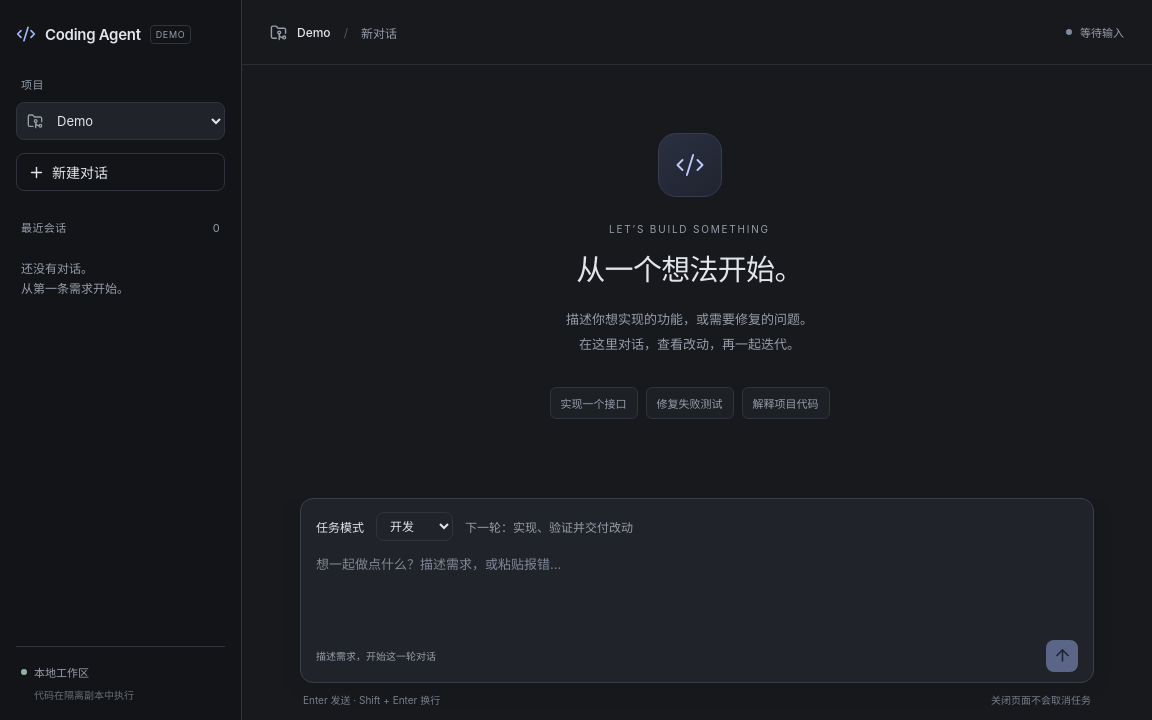
Test: chat MVP › creates a conversation and starts another run for the same text after completion
Type "fix tests" into the text box named "任务需求".
click(697, 590); type("fix tests")  # box [316,552,1078,628]
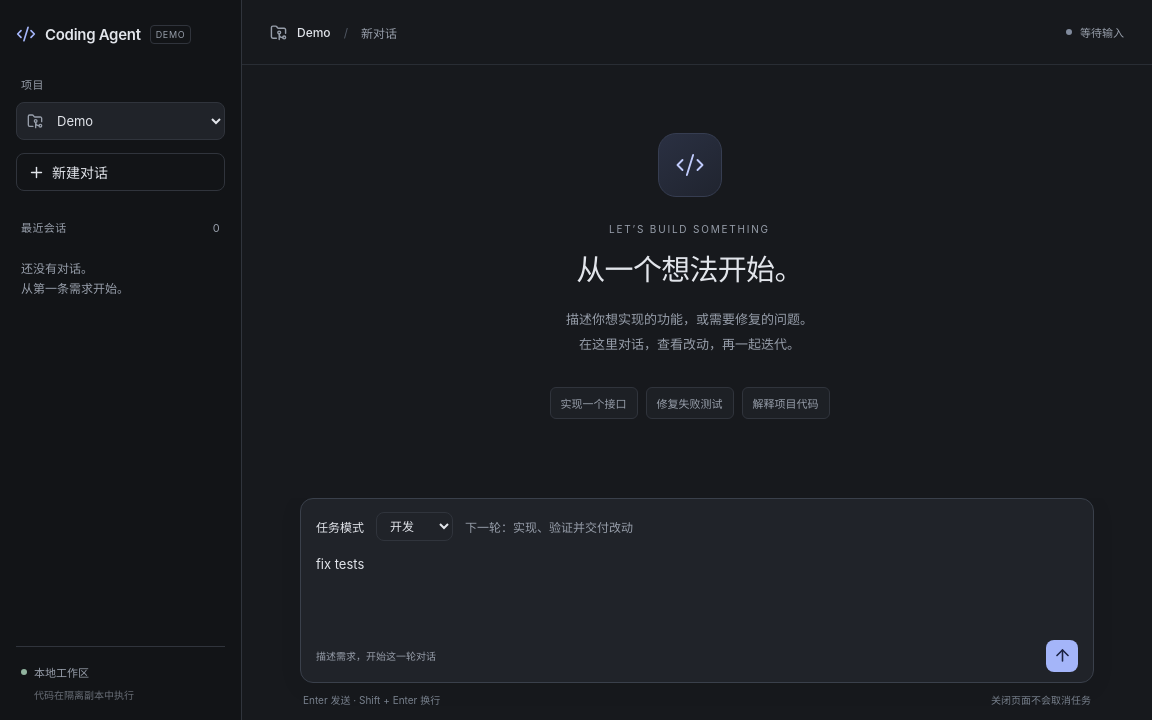
Click the button named "发送".
click(1062, 656)  # box [1046,640,1078,672]
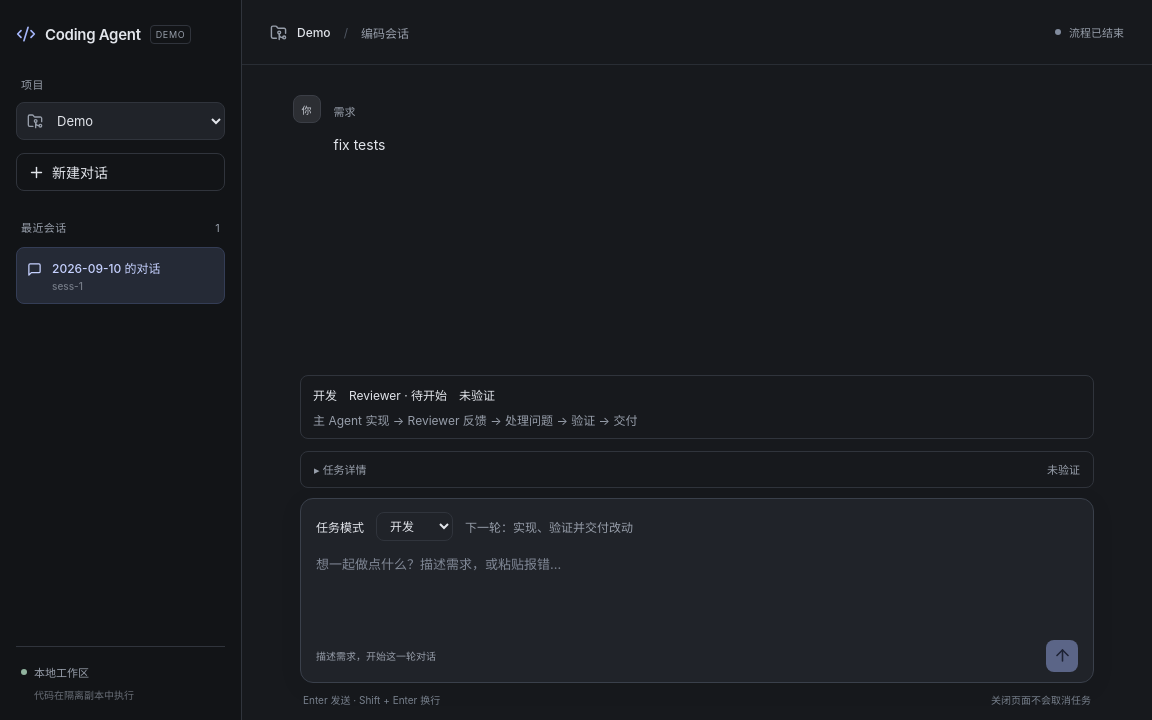
expect the text box named "任务需求" is empty: met
expect the text "流程已结束" is shown: met, box [1055,24,1124,40]
Type "fix tests" into the text box named "任务需求".
click(697, 590); type("fix tests")  # box [316,552,1078,628]
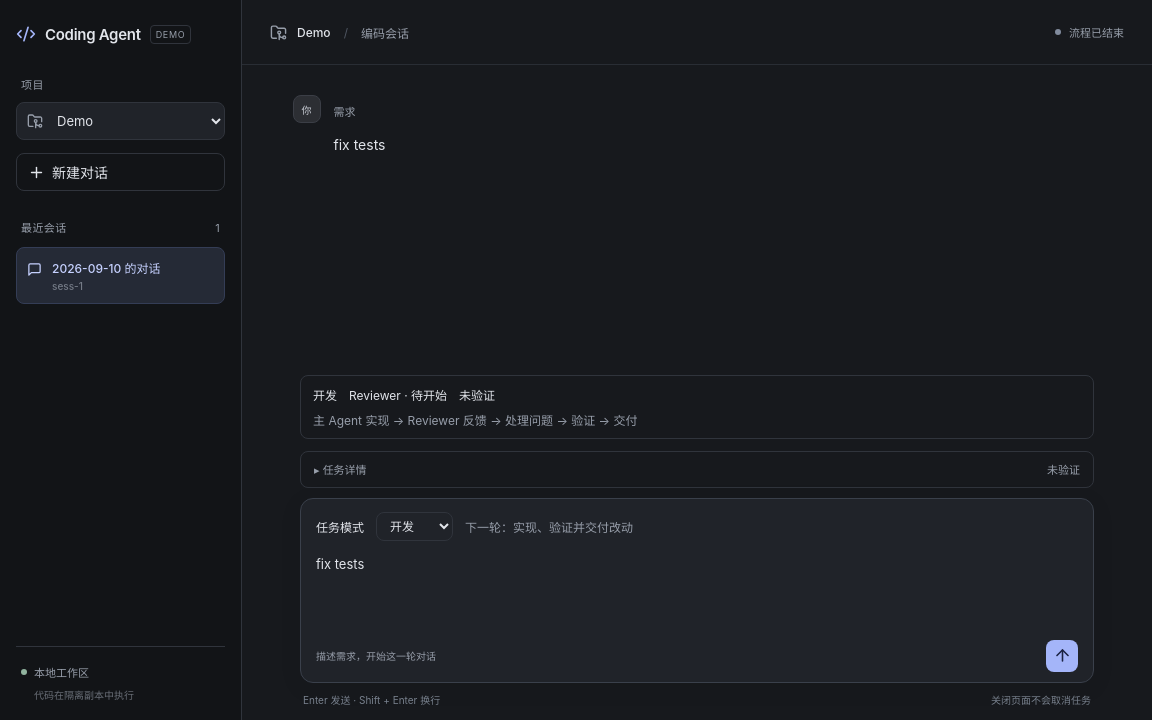
Click the button named "发送".
click(1062, 656)  # box [1046,640,1078,672]
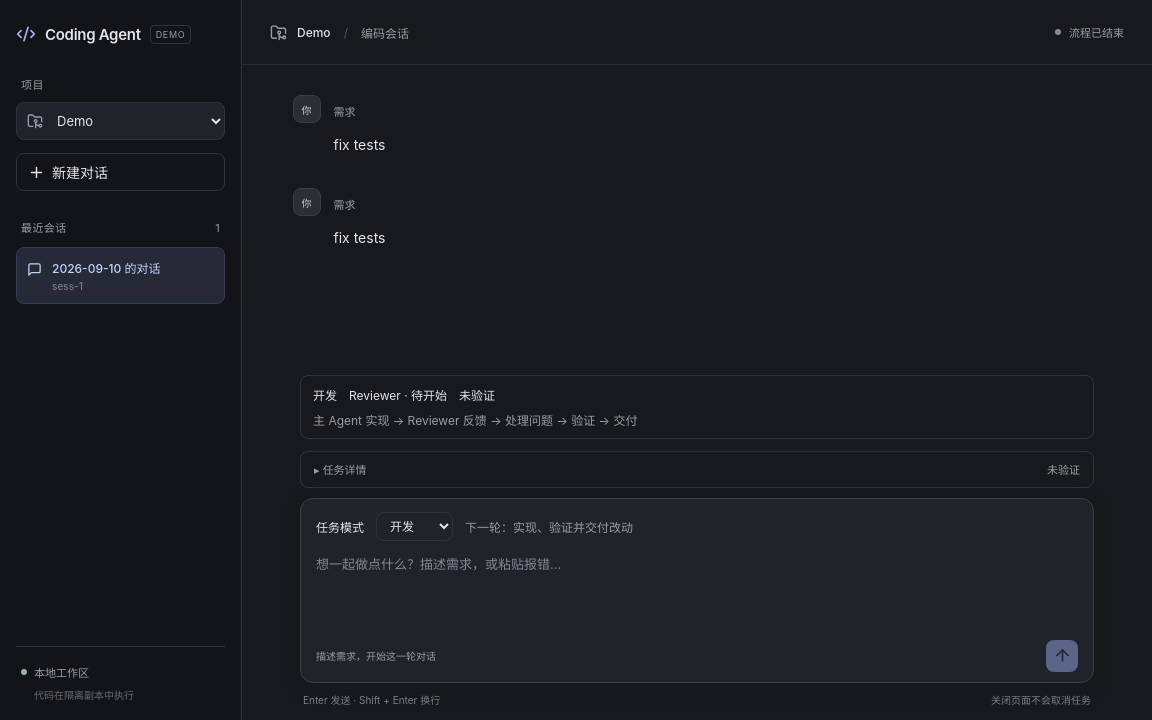
expect the text box named "任务需求" is empty: met, box [316,552,1078,628]
expect the text "fix tests" is shown 2 times: met, box [334,136,386,153]; [334,229,386,246]
